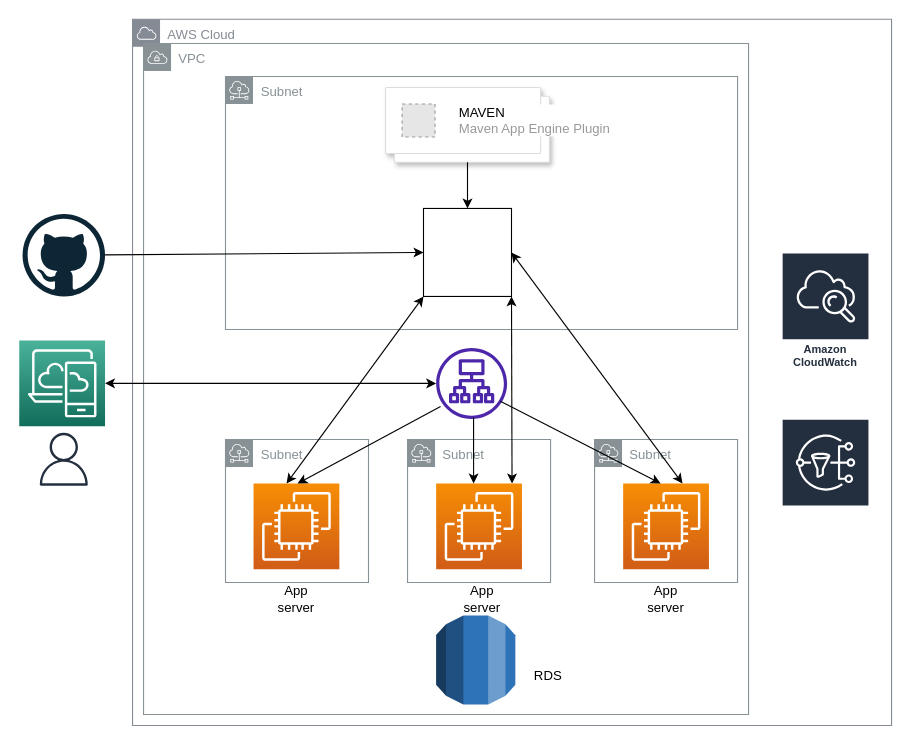
The diagram is 911 pixels wide and 745 high, and some of its shapes have lost their labels. Grey dashed boxes stand in for pictures. Each missing label, with the centre of its shape:
"Amazon SNS" goes at point (825, 473).
"Jenkins Server" goes at point (467, 251).
"User" goes at point (63, 458).
